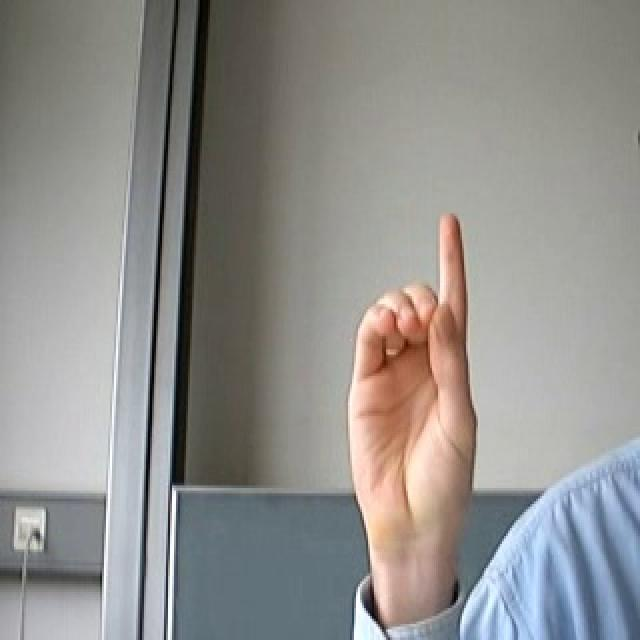D: (334, 204, 489, 552)
